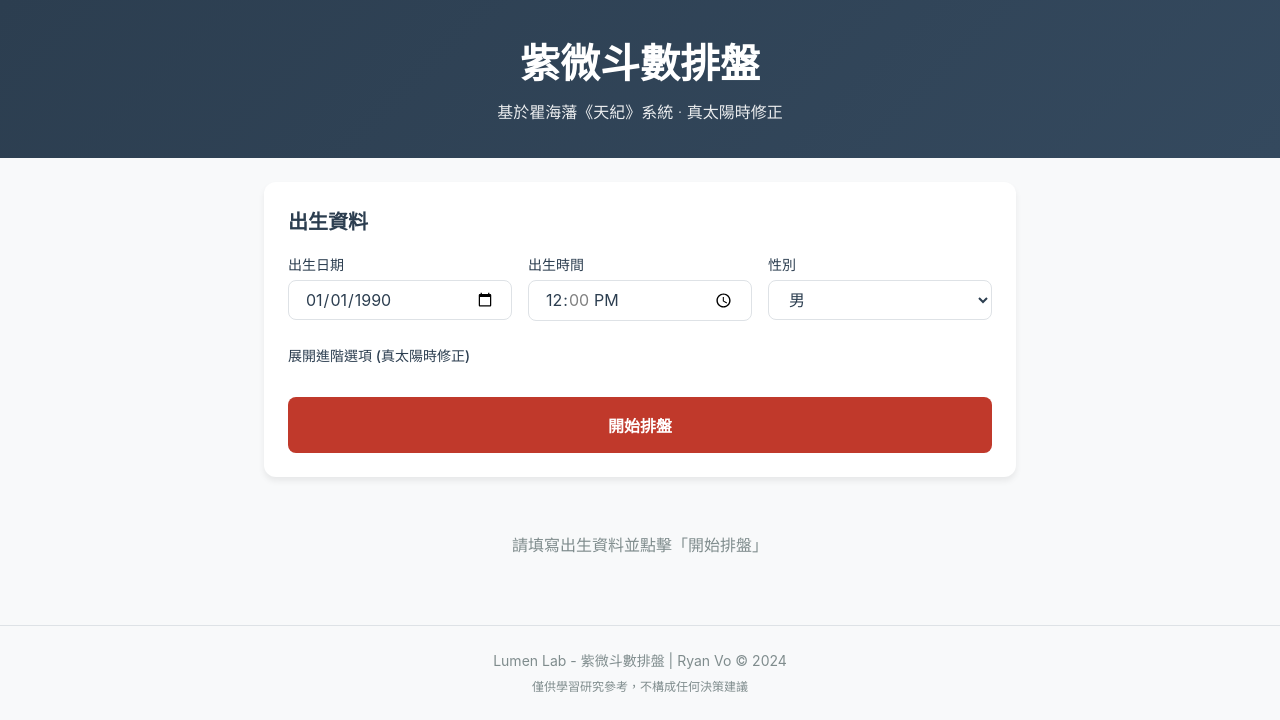
Test: ChartForm › disables submit button during loading
Step 1. Click the button "開始排盤" → point(640, 425), box [288,397,992,453]
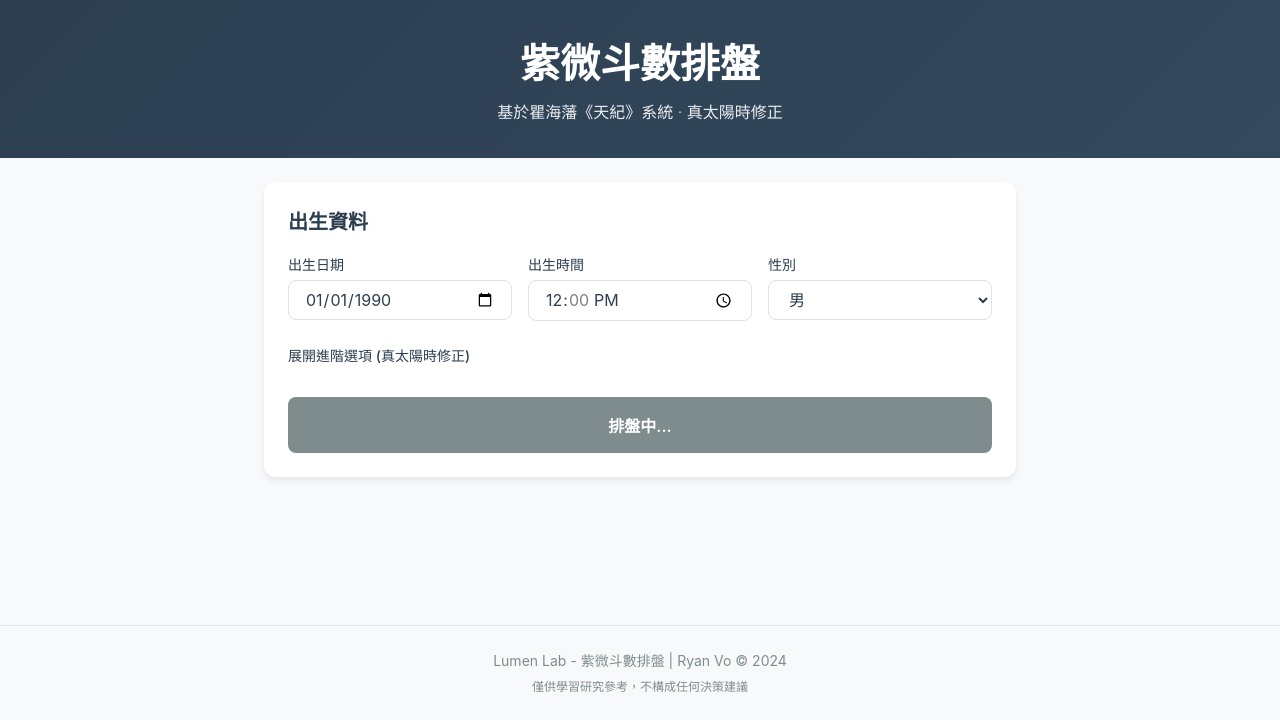
Now the button "排盤中..." is disabled, box [288,397,992,453]
